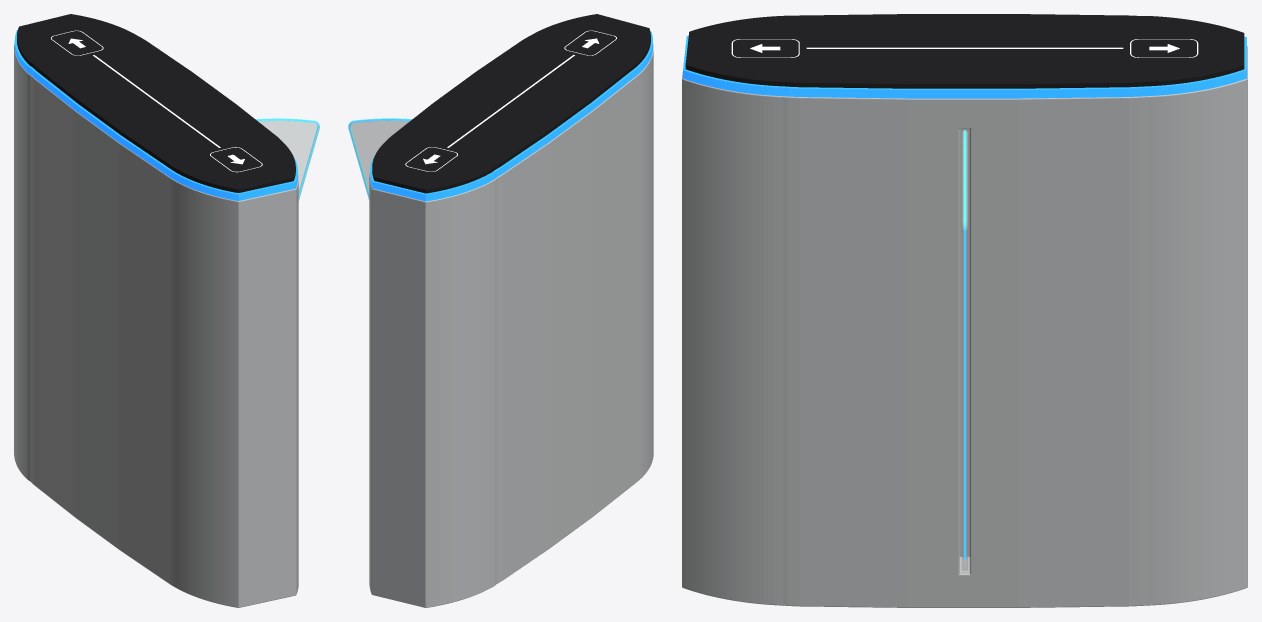
File: hg02_single_unit.glb
3 views of the same model, side by side, from view 1: azimuth 30°, elevation 25°; view 2: azimuth 150°, elevation 25°; view 3: azimuth 270°, elevation 25° (orthographic). The views are drawn at different scales.
Visible parts, largest first — view 1: HG02_Body_SS304, HG02_TopLid_BlackGlass, HG02_LED_Band, HG02_Wing_Glass, HG02_Wing_EdgeLED; view 2: HG02_Body_SS304, HG02_TopLid_BlackGlass, HG02_LED_Band, HG02_Wing_Glass, HG02_Wing_EdgeLED; view 3: HG02_Body_SS304, HG02_TopLid_BlackGlass, HG02_LED_Band, HG02_Wing_Glass, HG02_Wing_EdgeLED.
Part boxes in pixels (left/top/right/bottom): HG02_Body_SS304: left=14, top=44, right=298, bottom=607; HG02_TopLid_BlackGlass: left=17, top=14, right=295, bottom=192; HG02_LED_Band: left=14, top=30, right=297, bottom=200; HG02_Wing_Glass: left=258, top=120, right=319, bottom=199; HG02_Wing_EdgeLED: left=256, top=118, right=319, bottom=200; HG02_Body_SS304: left=369, top=43, right=653, bottom=607; HG02_TopLid_BlackGlass: left=372, top=14, right=650, bottom=193; HG02_LED_Band: left=370, top=31, right=652, bottom=201; HG02_Wing_Glass: left=348, top=120, right=409, bottom=199; HG02_Wing_EdgeLED: left=348, top=118, right=412, bottom=200; HG02_Body_SS304: left=682, top=46, right=1247, bottom=607; HG02_TopLid_BlackGlass: left=685, top=14, right=1244, bottom=88; HG02_LED_Band: left=683, top=35, right=1246, bottom=98; HG02_Wing_Glass: left=962, top=131, right=967, bottom=570; HG02_Wing_EdgeLED: left=963, top=130, right=966, bottom=559.
Size of the model in its own units: 0.5679 by 1.02 by 0.9999.
